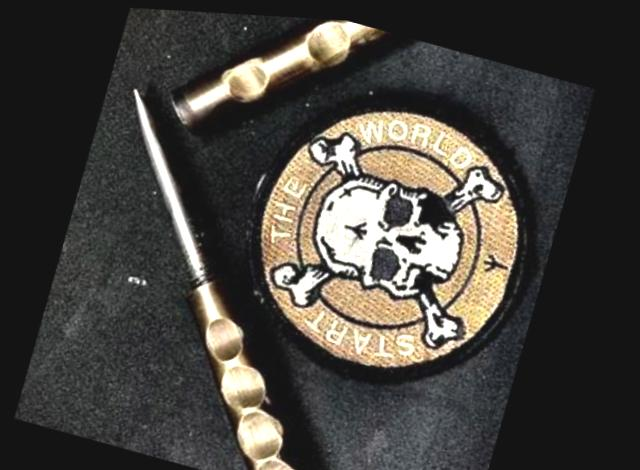ice pick: (40, 81, 432, 470)
